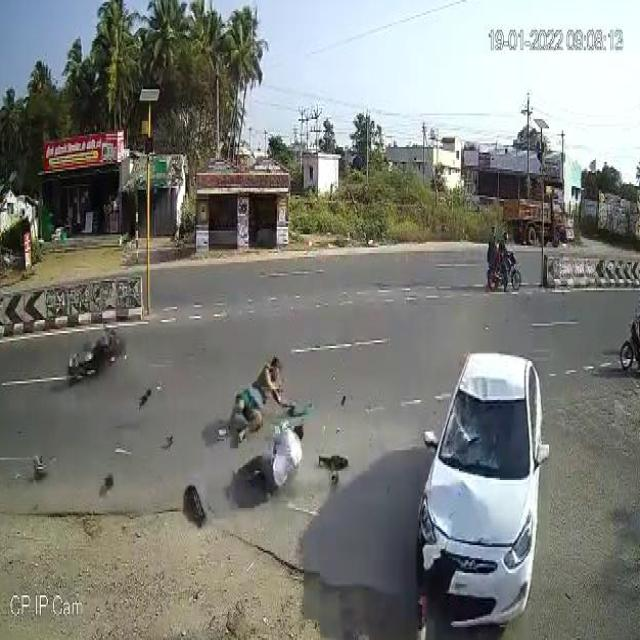accident: (405, 346, 555, 640), (56, 312, 136, 400)
